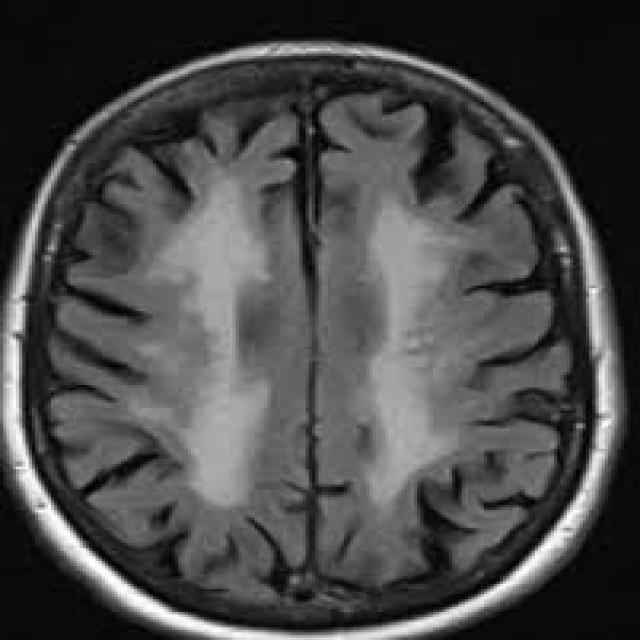notumor: (6, 41, 627, 637)
